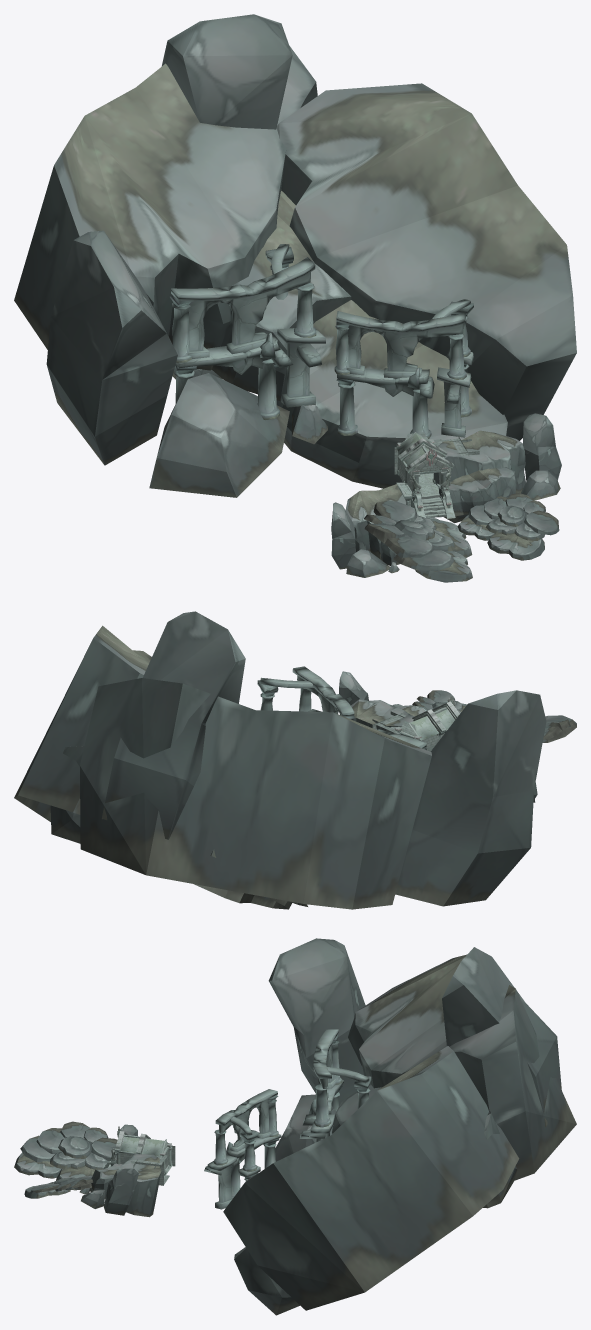
The model's file is boss3_wujian2_1.fbx.
3 views of the same model, one above another, from view 1: azimuth 30°, elevation 25°; view 2: azimuth 150°, elevation 25°; view 3: azimuth 270°, elevation 25° (orthographic). The views are drawn at different scales.
Visible parts, largest first — view 1: boss3_wujian2; view 2: boss3_wujian2; view 3: boss3_wujian2.
Part boxes in pixels (x1=…): boss3_wujian2: x1=14, y1=14, x2=576, y2=582; boss3_wujian2: x1=14, y1=611, x2=576, y2=909; boss3_wujian2: x1=14, y1=938, x2=576, y2=1315.
Size of the model in its own units: 13027 by 11244 by 17818.
